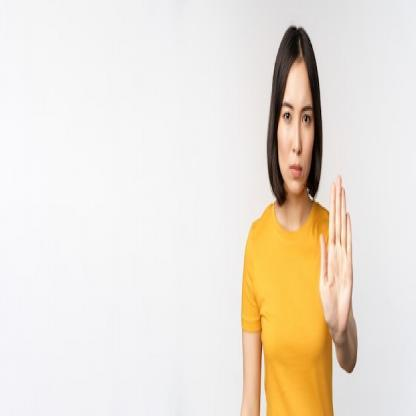stop: (318, 168, 356, 345)
